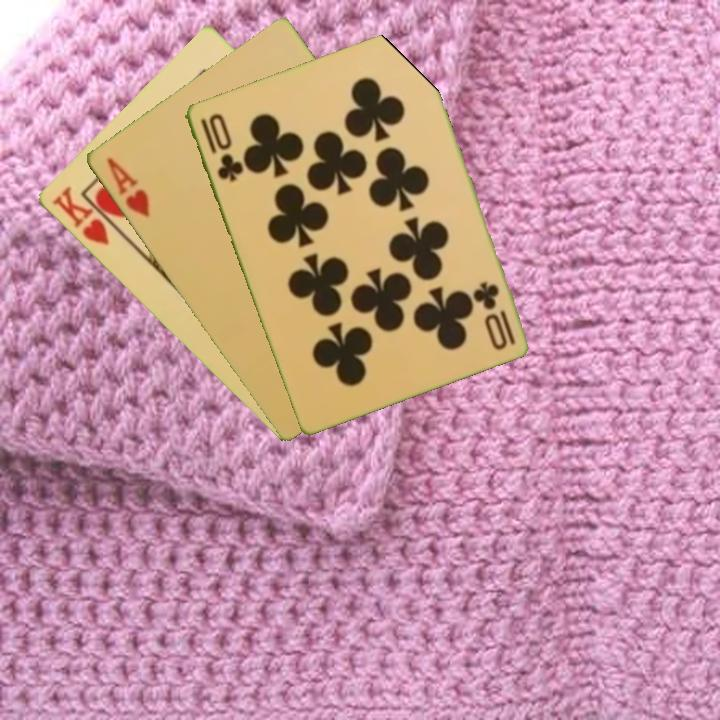10c: (196, 109, 245, 185), (471, 277, 518, 353)
Ah: (102, 154, 152, 220)
Kh: (49, 182, 126, 249)
